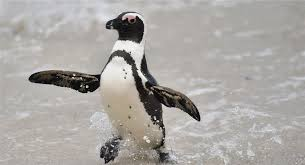Walking: (23, 3, 205, 163)
